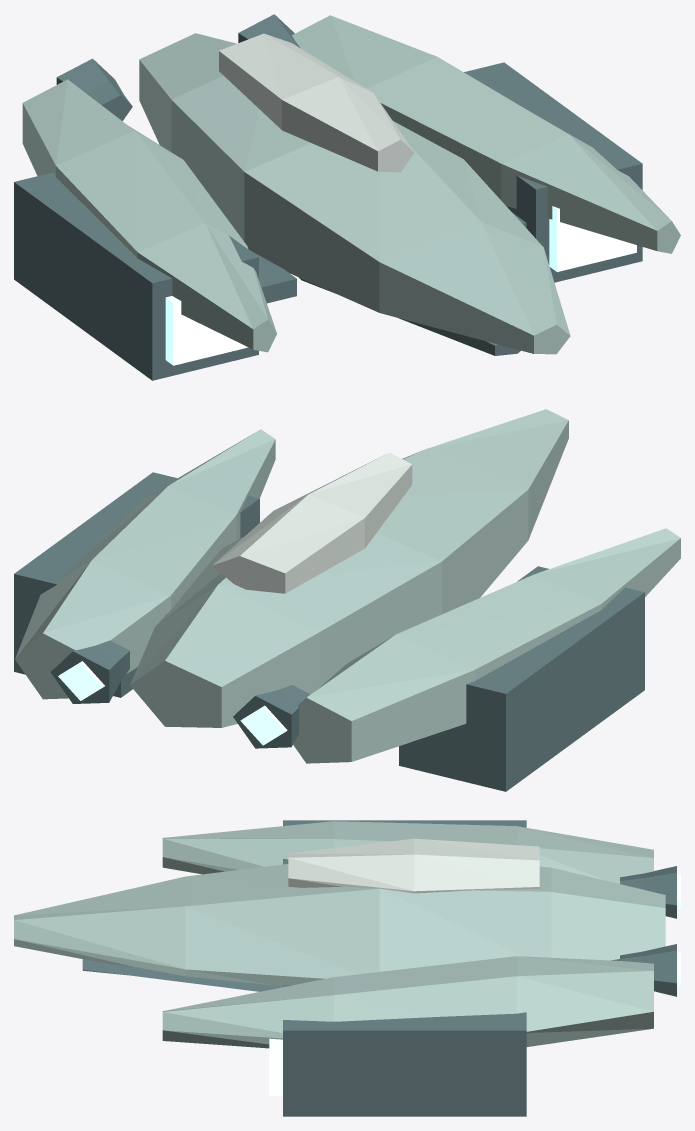
3 renders of one model, top to bottom at view 1: azimuth 30°, elevation 25°; view 2: azimuth 150°, elevation 25°; view 3: azimuth 270°, elevation 25°, orthographic. The views are drawn at different scales.
Bounding box in the file's own units: 14.72 × 5.34 × 19.72.
